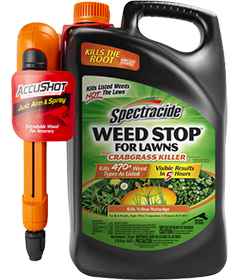crabgrass: (85, 183, 121, 219)
